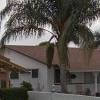Tree: (23, 0, 92, 56)
